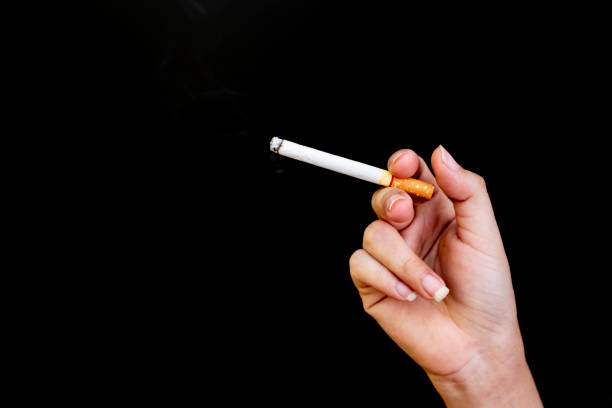cigarette: (269, 135, 437, 202)
